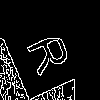R: (25, 25, 80, 77)
